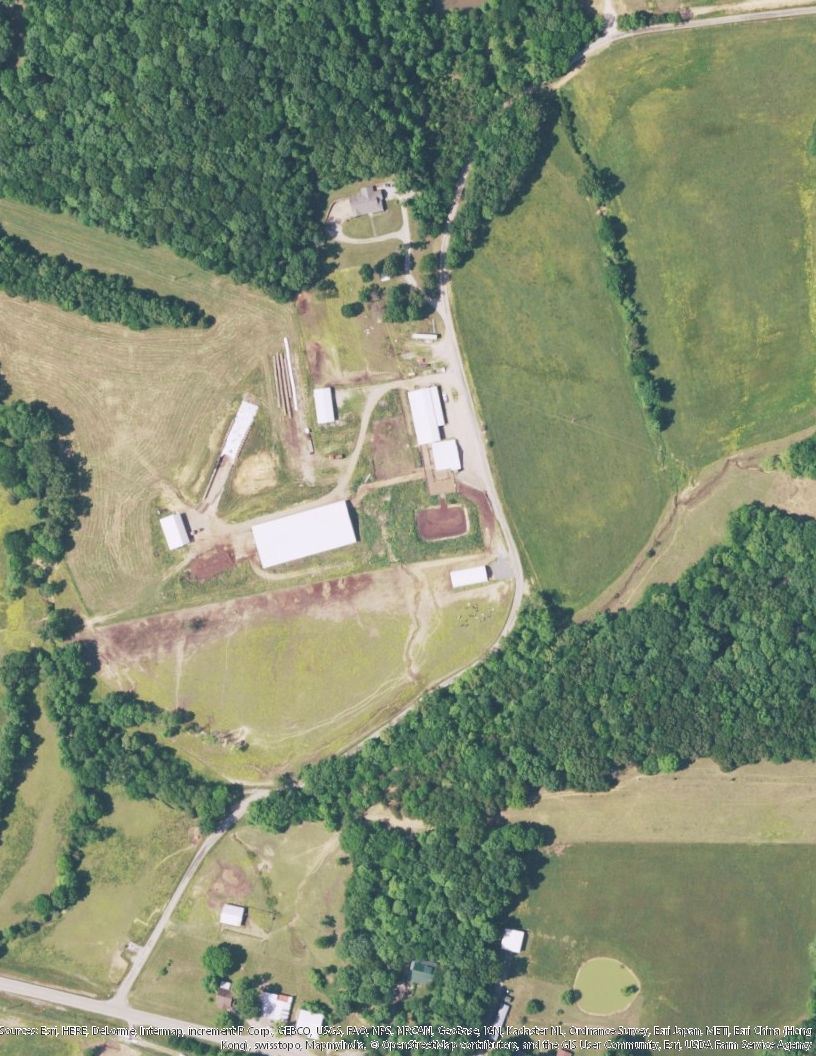cafo: (248, 498, 366, 571), (403, 383, 465, 478), (309, 383, 342, 428), (446, 563, 496, 587)
